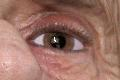eye: (45, 33, 74, 51)
